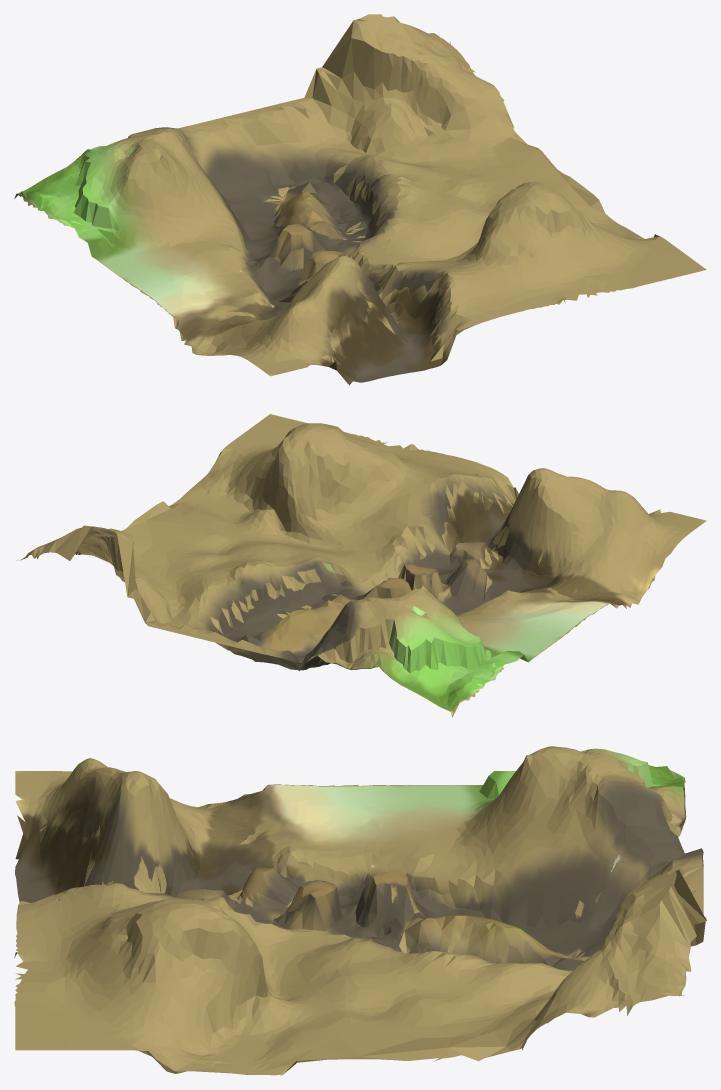
Rendered from TerrainA4_7000p.fbx.
3 renders of one model, top to bottom at view 1: azimuth 30°, elevation 25°; view 2: azimuth 150°, elevation 25°; view 3: azimuth 270°, elevation 25°, orthographic. The views are drawn at different scales.
Visible parts, largest first — view 1: Terrain4_7000; view 2: Terrain4_7000; view 3: Terrain4_7000.
Part boxes in pixels (bbox=[...]): Terrain4_7000: bbox=[14, 14, 706, 385]; Terrain4_7000: bbox=[16, 414, 706, 717]; Terrain4_7000: bbox=[14, 746, 706, 1075].
Size of the model in its own units: 20403 by 5826 by 20988.
